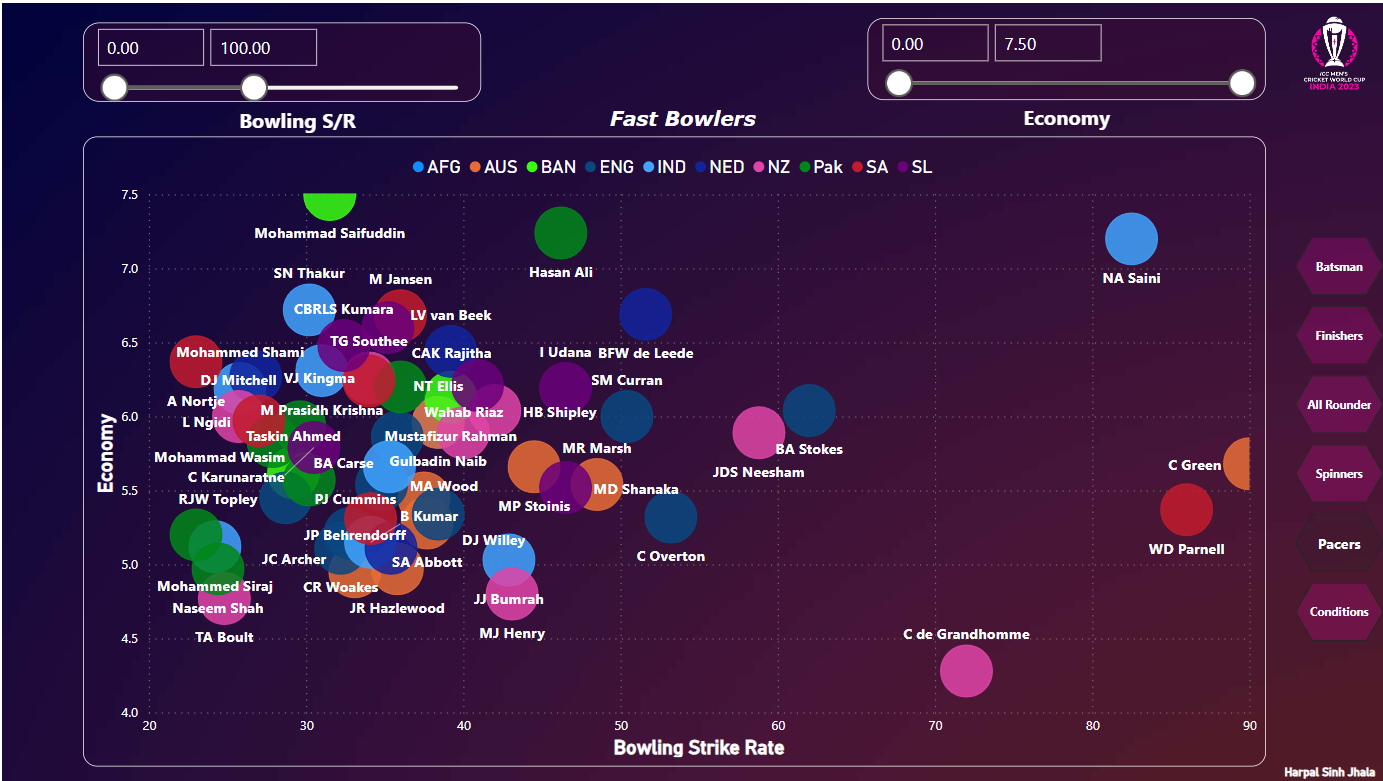

What the dashboard file says about the page in this screenshot:
{"tool":"powerbi","page":{"name":"Pacers","canvas":[1280,720],"ordinal":5},"visuals":[{"type":"scatterChart","fields":{"Category":["Bowling.Players"],"Y":["Bowling.Economy"],"Series":["Bowling.Country"],"X":["Sum(Bowling.Bowling Strike Rate)"]},"box":[74.7,124,1095.1,583.3],"z":0},{"type":"slicer","fields":{"Values":["Bowling.Bowling Strike Rate"]},"box":[74.7,17.5,368.7,73.1],"z":1000},{"type":"slicer","fields":{"Values":["Bowling.Economy"]},"box":[801.1,14.3,368.7,76.3],"z":2000},{"type":"textbox","box":[186,90.6,174.8,36.6],"z":3000},{"type":"textbox","box":[898,87.4,174.8,36.6],"z":4000},{"type":"textbox","box":[551.5,90.6,216.2,46.1],"z":5000},{"type":"pageNavigator","box":[1196.8,216.2,82.6,375.1],"z":6000},{"type":"textbox","box":[1187.3,700.9,92.2,19.1],"z":7000},{"type":"image","box":[1187.3,3.2,92.2,87.4],"z":8000}]}

Visuals, with their boxes in screenshot pixels (x1, y1, x2, y2), scaled from the page's 1280x720 canvas onto the 1383x781 screenshot:
scatterChart - Bowling.Players x Bowling.Economy: 81, 135, 1264, 767
slicer - Bowling.Bowling Strike Rate: 81, 19, 479, 98
slicer - Bowling.Economy: 866, 16, 1264, 98
textbox: 201, 98, 390, 138
textbox: 970, 95, 1159, 135
textbox: 596, 98, 829, 148
pageNavigator: 1293, 235, 1382, 641
textbox: 1283, 760, 1382, 780
image: 1283, 3, 1382, 98
